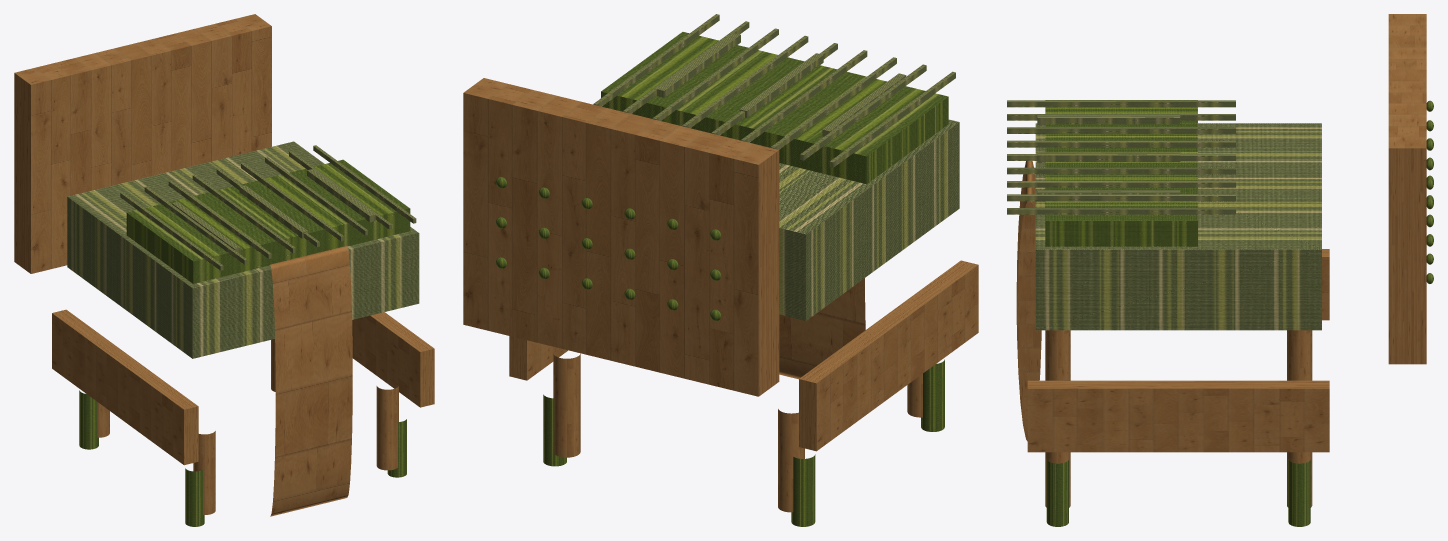
Rendered from bed.gltf.
3 renders of one model, left to right at view 1: azimuth 30°, elevation 25°; view 2: azimuth 150°, elevation 25°; view 3: azimuth 270°, elevation 25°, orthographic. The views are drawn at different scales.
Visible parts, largest first — view 1: headboard, mattress, footboard, blanket, frame_left, frame_right, bed_leg_0.38_0.38, bed_leg_-0.38_0.38, foot_2, foot_0, duvet_seam_0, duvet_seam_1 (+10 smaller); view 2: headboard, mattress, blanket, frame_left, footboard, bed_leg_0.38_-0.38, bed_leg_-0.38_-0.38, foot_0, frame_right, foot_2, duvet_seam_1, duvet_seam_0 (+11 smaller); view 3: mattress, frame_right, headboard, blanket, footboard, duvet_seam_0, duvet_seam_3, duvet_seam_5, duvet_seam_7, duvet_seam_2, duvet_seam_6, duvet_seam_8 (+11 smaller).
Boxes of the visible parts, x1,y1,x2,y2 form: headboard: (14, 14, 271, 273); mattress: (67, 141, 419, 358); footboard: (270, 246, 352, 516); blanket: (126, 159, 410, 283); frame_left: (52, 309, 198, 465); frame_right: (352, 312, 434, 407); bed_leg_0.38_0.38: (376, 385, 398, 470); bed_leg_-0.38_0.38: (193, 431, 215, 514); foot_2: (185, 468, 204, 526); foot_0: (79, 390, 98, 449); duvet_seam_0: (120, 192, 223, 270); duvet_seam_1: (144, 186, 247, 264); headboard: (463, 78, 779, 396); mattress: (779, 119, 959, 320); blanket: (601, 32, 948, 184); frame_left: (799, 260, 978, 451); footboard: (779, 278, 865, 379); bed_leg_0.38_-0.38: (553, 353, 580, 457); bed_leg_-0.38_-0.38: (778, 409, 804, 512); foot_0: (791, 454, 815, 526); frame_right: (509, 336, 567, 380); foot_2: (921, 359, 944, 431); duvet_seam_1: (800, 64, 926, 160); duvet_seam_0: (829, 71, 955, 167); mattress: (1035, 123, 1321, 330); frame_right: (1027, 380, 1329, 452); headboard: (1388, 14, 1426, 364); blanket: (1045, 100, 1197, 246); footboard: (1016, 161, 1041, 441); duvet_seam_0: (1007, 100, 1235, 107); duvet_seam_3: (1007, 140, 1235, 147); duvet_seam_5: (1007, 167, 1235, 174); duvet_seam_7: (1007, 194, 1235, 201); duvet_seam_2: (1007, 127, 1235, 133); duvet_seam_6: (1007, 181, 1235, 187); duvet_seam_8: (1007, 208, 1235, 214).
Bounding box in the file's own units: 1.04 × 1.33 × 1.34.
3 materials, 3 textured.
